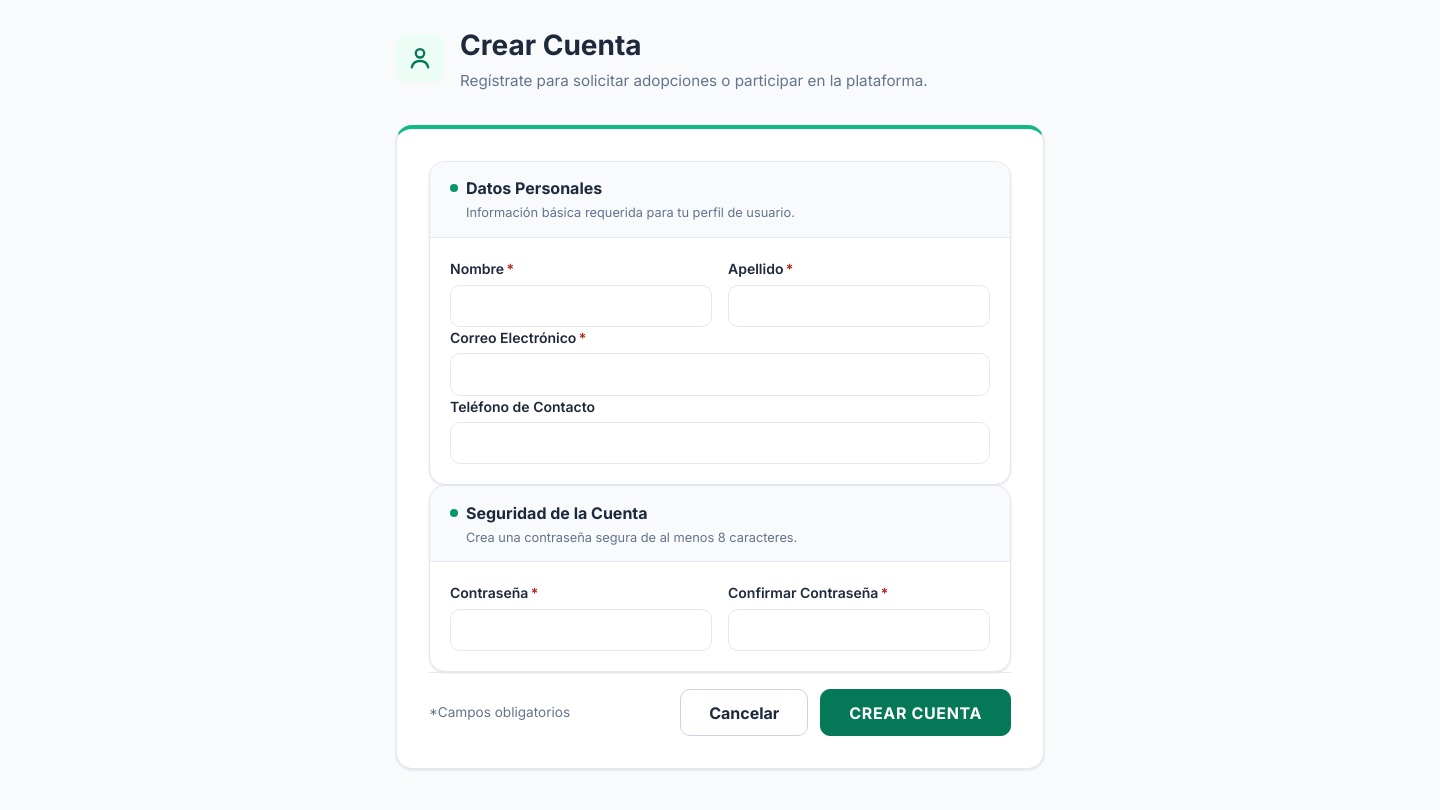
Test case: UserRegisterPage (HU73) › handles duplicate email backend error and displays error dialog
This screenshot has width=1440, height=810.
In the field labelled "Nombre*": coordinates (581, 306) [450,284,712,327], type "Anggel"
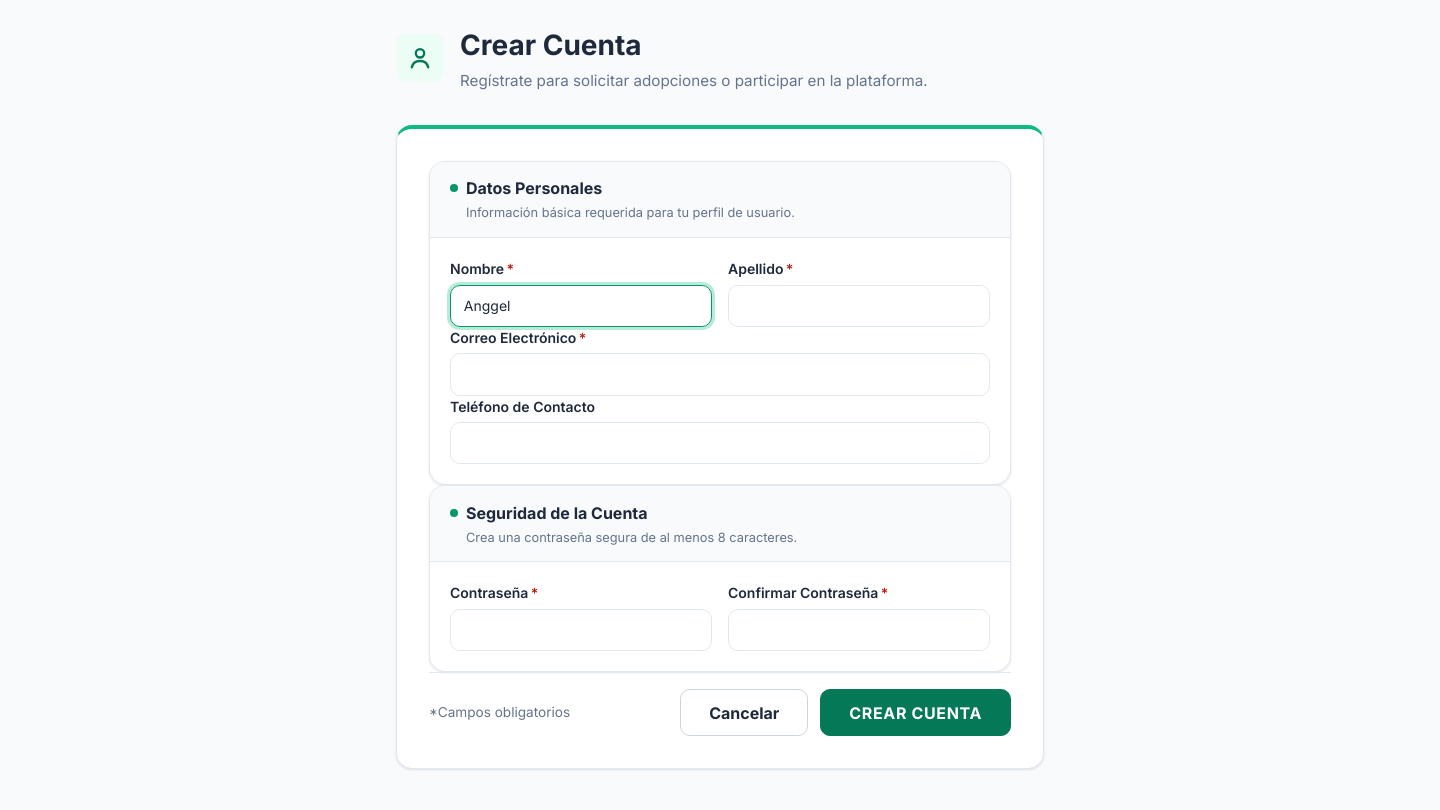
In the field labelled "Apellido*": coordinates (859, 306) [728,284,990,327], type "Leal"
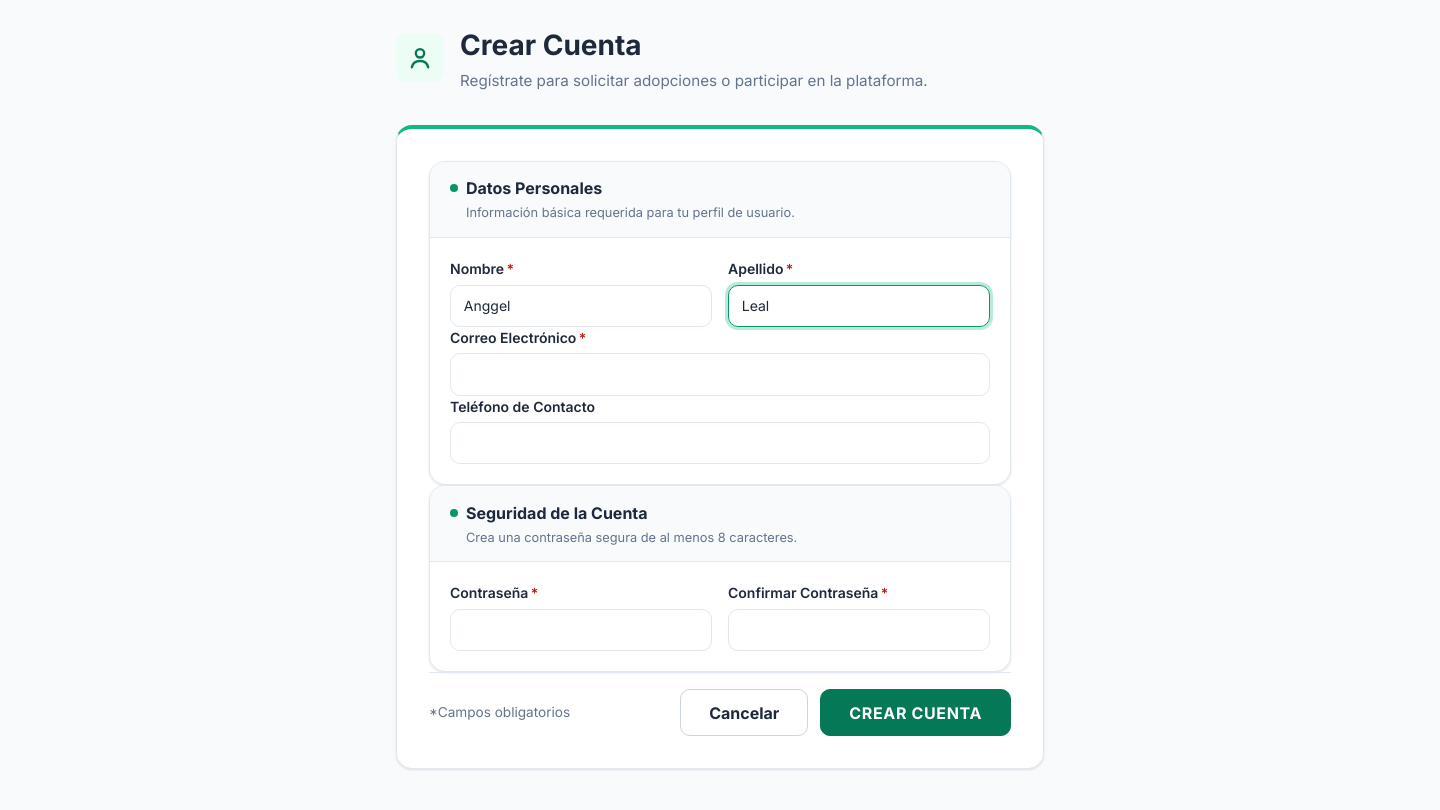
In the field labelled "Correo Electrónico*": coordinates (720, 374) [450,353,990,396], type "existing@example.com"
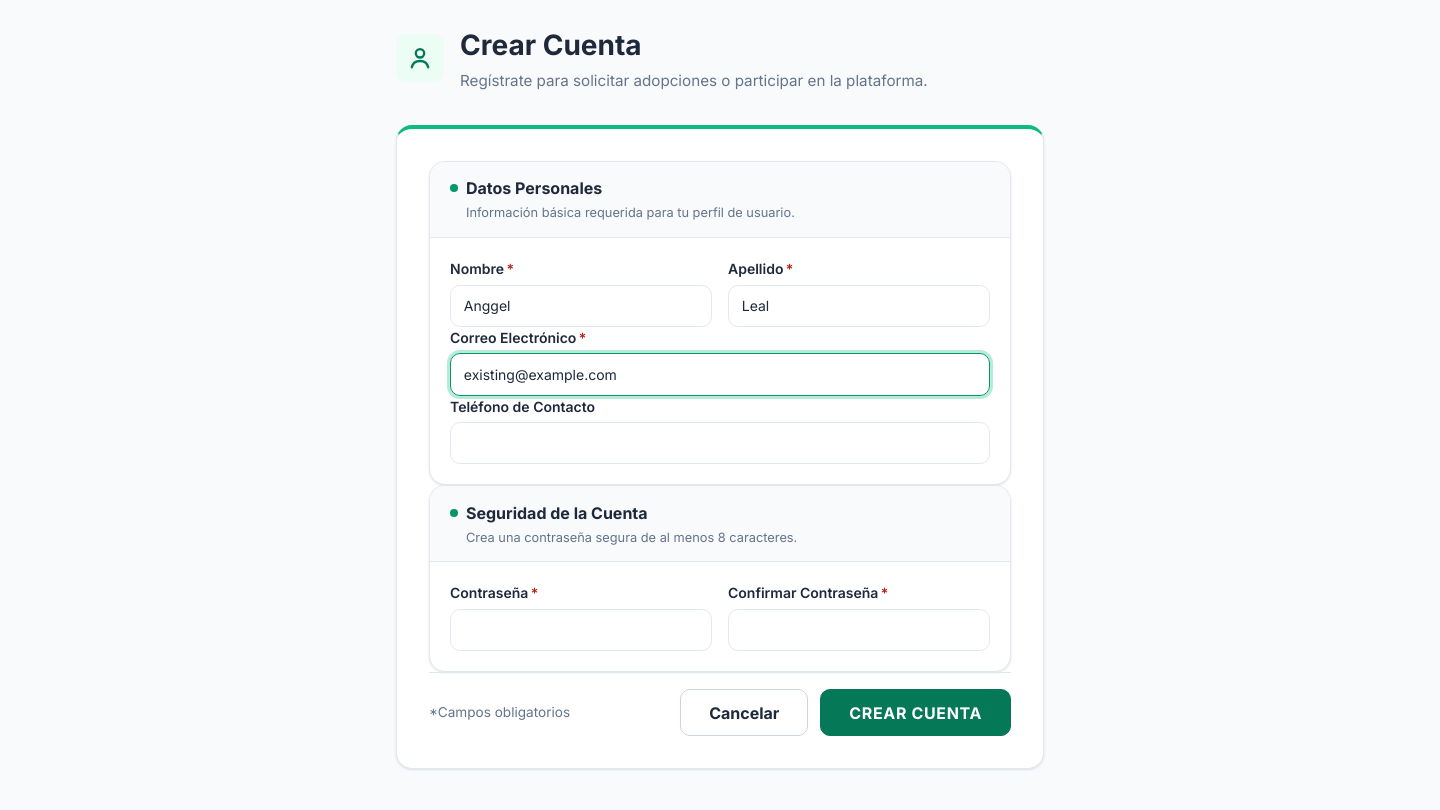
In the password field labelled "Contraseña*": coordinates (581, 630) [450,609,712,651], type "password123"
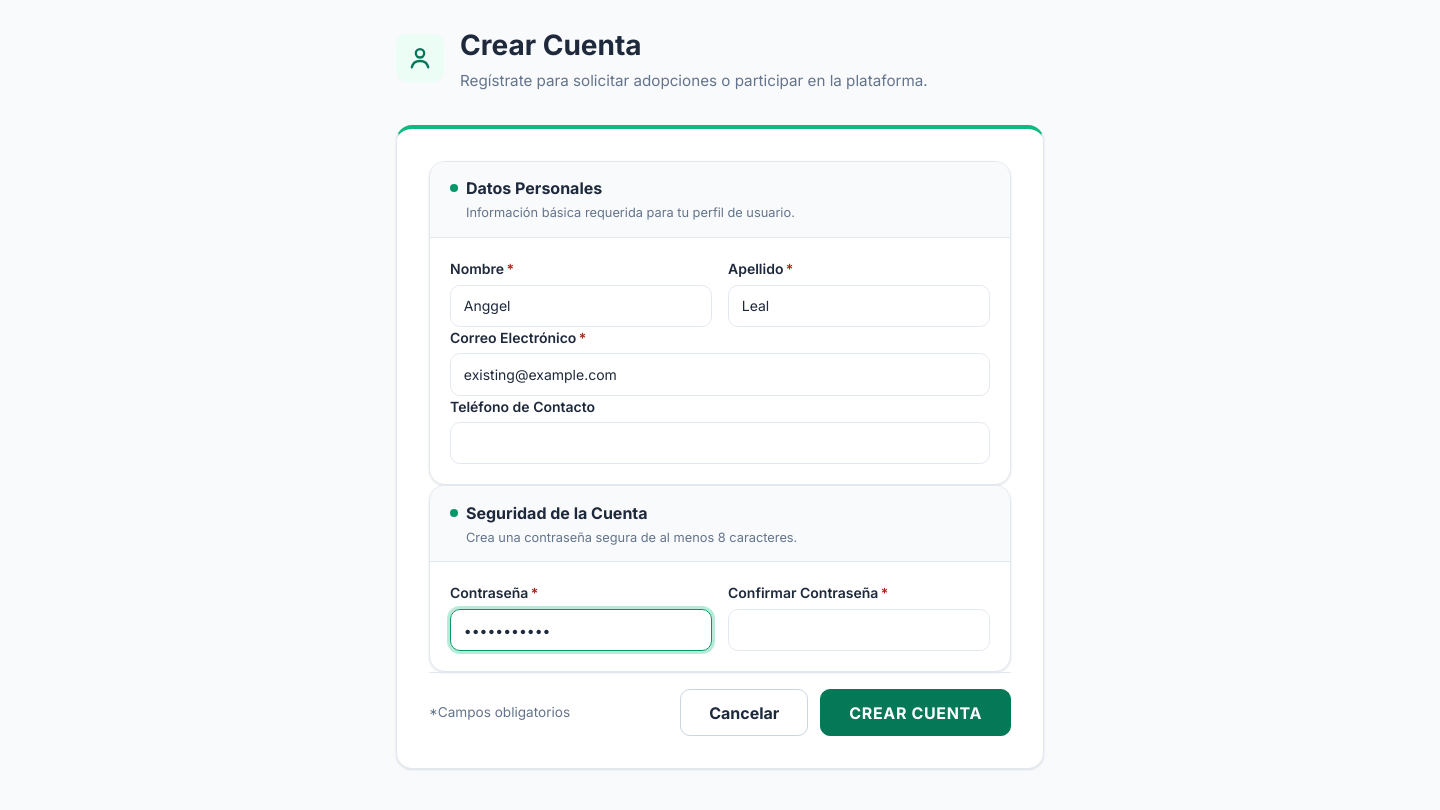
In the password field labelled "Confirmar Contraseña*": coordinates (859, 630) [728,609,990,651], type "password123"
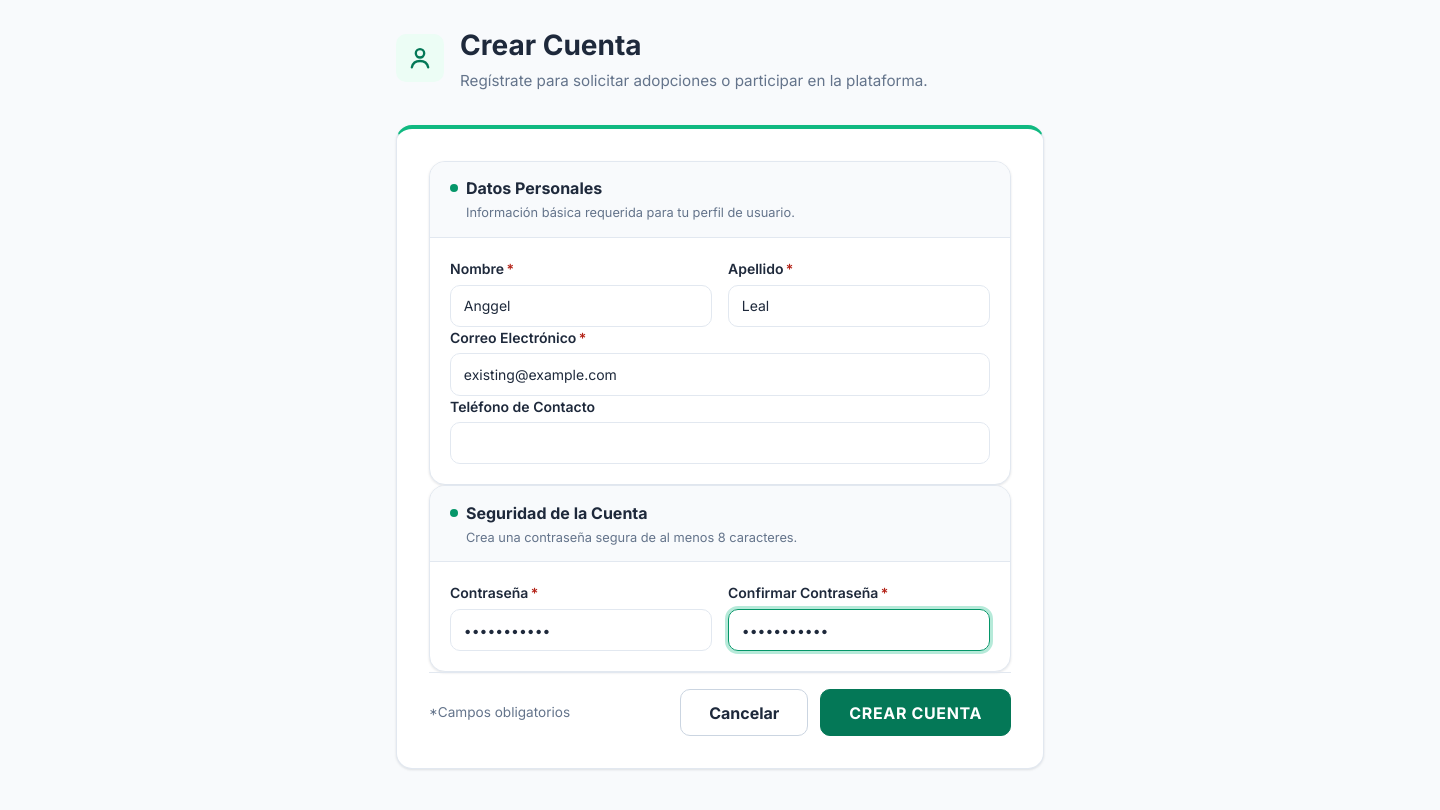
Click the button "Crear cuenta": coordinates (916, 713) [820,689,1011,736]
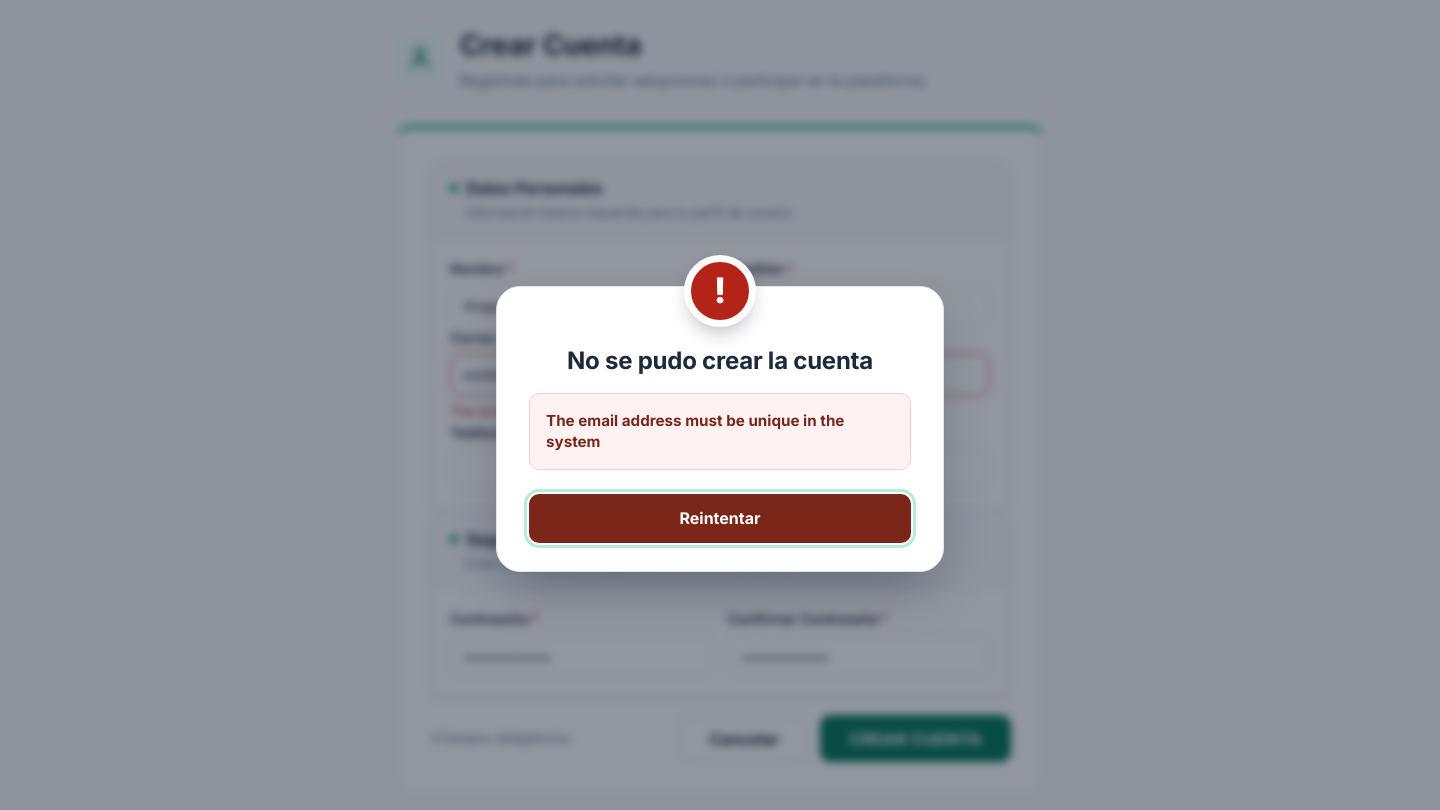
Expected: the heading "No se pudo crear la cuenta" is shown, [567,346,873,375]
Expected: the text "The email address must be unique in the system" is shown 2 times, [450,403,760,419]; [546,410,894,453]
